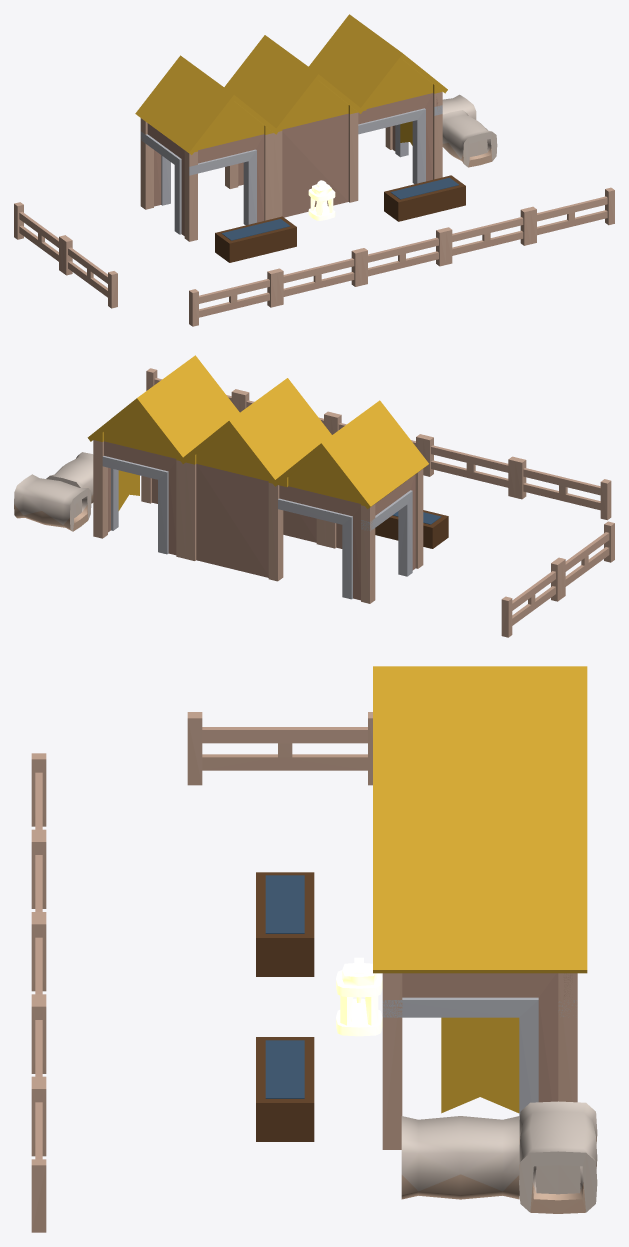
The model's file is stables_l2.glb.
3 views of the same model, one above another, from view 1: azimuth 30°, elevation 25°; view 2: azimuth 150°, elevation 25°; view 3: azimuth 270°, elevation 25° (orthographic). The views are drawn at different scales.
Parts seen in each view (by area): view 1: stables_l2; view 2: stables_l2; view 3: stables_l2.
Boxes of the visible parts, x1,y1,x2,y2 form: stables_l2: (14, 14, 614, 326); stables_l2: (14, 355, 614, 637); stables_l2: (31, 666, 597, 1232).
Size of the model in its own units: 7.9 by 2.26 by 4.17.
